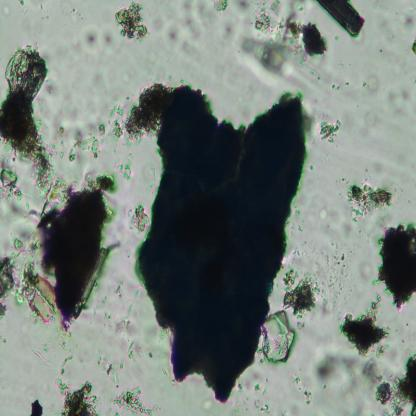Background material: (16, 172, 116, 329), (0, 46, 58, 186), (64, 105, 128, 164), (376, 224, 416, 311), (340, 298, 392, 362), (362, 355, 416, 416), (239, 0, 282, 76), (255, 308, 299, 368), (18, 270, 63, 327), (316, 346, 365, 398), (284, 265, 332, 318), (126, 82, 169, 138), (282, 15, 332, 63), (342, 183, 390, 223), (53, 378, 102, 416), (0, 163, 35, 215), (117, 2, 155, 46), (232, 381, 272, 416), (112, 389, 159, 414), (80, 30, 116, 55), (180, 0, 202, 39), (0, 245, 11, 321), (101, 349, 122, 385), (128, 202, 150, 232), (115, 314, 144, 336), (386, 88, 409, 115), (33, 343, 54, 372), (124, 340, 148, 364), (299, 105, 315, 138), (332, 242, 349, 272), (319, 118, 341, 141), (289, 0, 313, 21), (294, 378, 312, 404), (182, 42, 202, 62), (370, 159, 390, 179), (290, 208, 304, 236), (401, 6, 416, 32), (164, 24, 180, 47), (58, 354, 74, 376), (58, 332, 74, 352), (361, 261, 376, 281), (225, 22, 240, 42), (28, 400, 46, 416), (42, 79, 58, 95), (114, 68, 129, 84), (210, 0, 231, 10), (114, 278, 124, 298), (368, 74, 379, 92), (115, 165, 130, 178), (364, 112, 378, 125), (90, 72, 103, 86), (1, 1, 11, 18), (410, 34, 416, 56), (311, 67, 320, 81), (320, 208, 328, 221), (361, 80, 369, 88), (332, 84, 340, 92), (107, 405, 112, 416), (374, 1, 379, 9), (18, 0, 23, 7), (346, 81, 350, 87)
Fragment: (127, 84, 306, 408)
